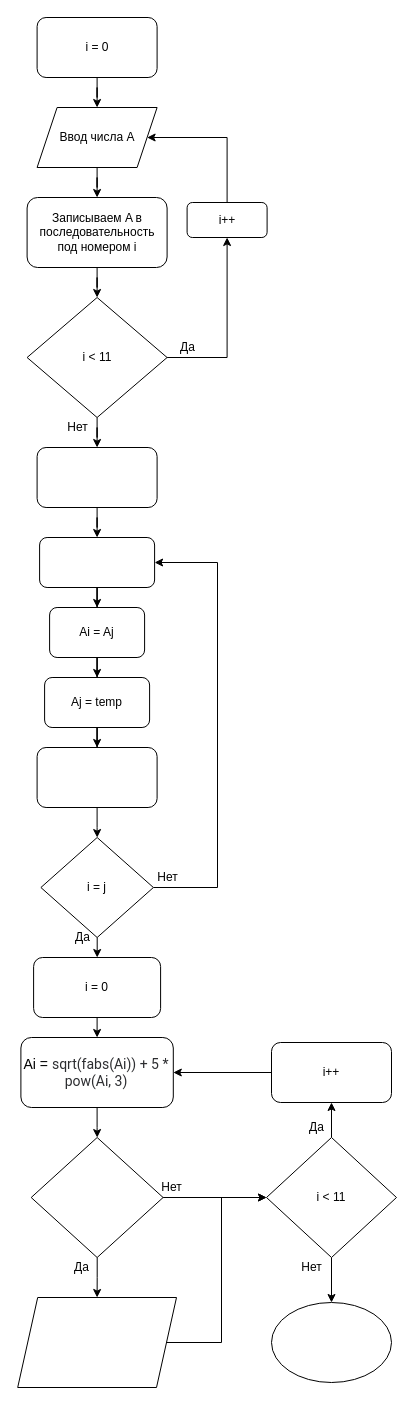
The diagram is 414 pixels wide and 1405 high, and some of its shapes have lost their labels. Each missing label, with the centre of its shape:
"Ai > 400" belongs at [96,1197].
"i = 0, j = 10" belongs at [96,477].
"i++; j--" belongs at [96,777].
"temp = Ai" belongs at [97,562].
"Конец" belongs at [331,1342].
"Элемет Ai больше 400" belongs at [96,1342].
